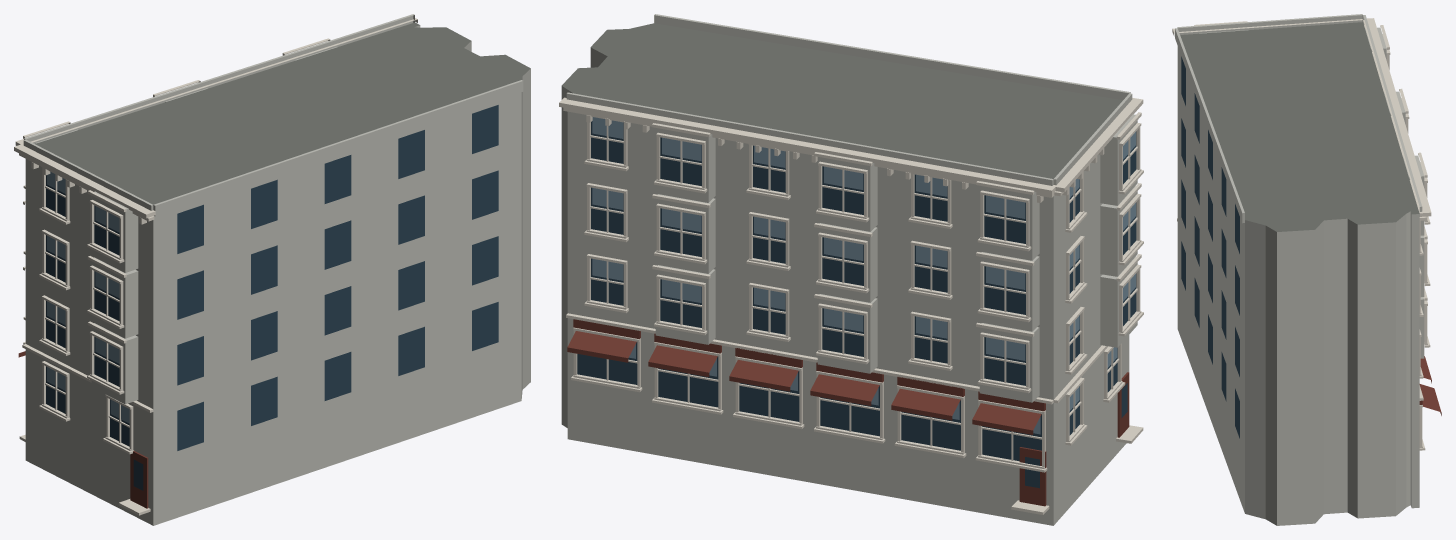
The picture shows the model from 3 angles, left to right: view 1: azimuth 30°, elevation 25°; view 2: azimuth 150°, elevation 25°; view 3: azimuth 270°, elevation 25°; orthographic projection. The views are drawn at different scales.
Parts seen in each view (by area): view 1: Footprint 0 / surface 2, Footprint 0 / surface 1, Inset glazing, Facade bay volumes, Cornices and window frames, Sky reflection panels, Storefronts and doors; view 2: Footprint 0 / surface 2, Cornices and window frames, Footprint 0 / surface 1, Inset glazing, Facade bay volumes, Storefronts and doors, Sky reflection panels; view 3: Footprint 0 / surface 2, Footprint 0 / surface 1, Facade bay volumes, Inset glazing, Cornices and window frames, Storefronts and doors.
Part boxes in pixels (x1,y1,x2,y2): Footprint 0 / surface 2: [25, 25, 530, 525]; Footprint 0 / surface 1: [35, 22, 530, 204]; Inset glazing: [46, 105, 498, 490]; Facade bay volumes: [23, 14, 523, 404]; Cornices and window frames: [14, 18, 417, 515]; Sky reflection panels: [47, 172, 129, 423]; Storefronts and doors: [18, 351, 148, 508]; Footprint 0 / surface 2: [561, 47, 1129, 525]; Cornices and window frames: [559, 97, 1143, 514]; Footprint 0 / surface 1: [562, 23, 1122, 178]; Inset glazing: [577, 121, 1136, 488]; Facade bay volumes: [566, 14, 1137, 402]; Storefronts and doors: [567, 319, 1129, 506]; Sky reflection panels: [592, 117, 1135, 434]; Footprint 0 / surface 2: [1177, 46, 1419, 525]; Footprint 0 / surface 1: [1180, 22, 1419, 231]; Facade bay volumes: [1175, 14, 1424, 358]; Inset glazing: [1181, 56, 1239, 438]; Cornices and window frames: [1172, 18, 1431, 450]; Storefronts and doors: [1419, 356, 1441, 415].
Size of the model in its own units: 23.03 by 15.03 by 12.18.
